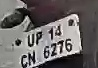1: (47, 25, 54, 42)
2: (50, 41, 58, 58)
4: (54, 25, 63, 39)
6: (65, 37, 73, 53), (43, 42, 50, 60)
7: (58, 38, 65, 54)
C: (20, 52, 27, 68)
N: (28, 50, 36, 66)
P: (35, 30, 44, 45)
U: (28, 33, 35, 48)
